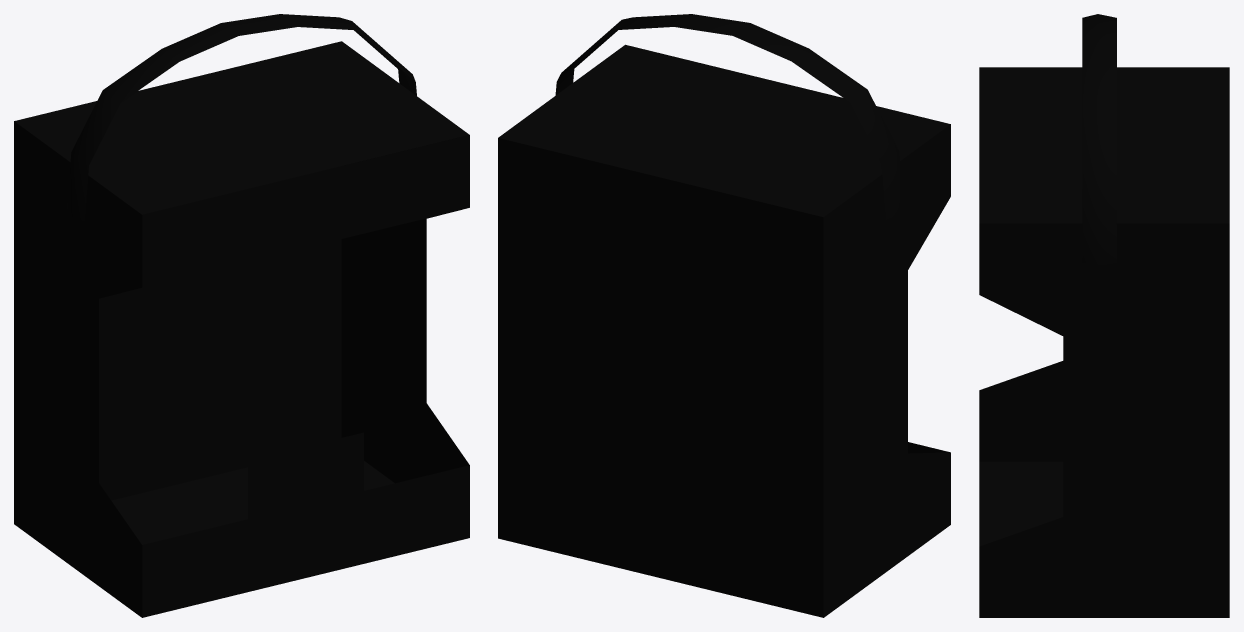
File: Box_yellow.FBX
3 renders of one model, left to right at view 1: azimuth 30°, elevation 25°; view 2: azimuth 150°, elevation 25°; view 3: azimuth 270°, elevation 25°, orthographic. The views are drawn at different scales.
Visible parts, largest first — view 1: Plane005; view 2: Plane005; view 3: Plane005.
Part boxes in pixels (x1,y1,x2,y2): Plane005: (14, 14, 469, 617); Plane005: (498, 14, 950, 617); Plane005: (979, 14, 1229, 617).
Size of the model in its own units: 0.3855 by 0.5444 by 0.2475.
